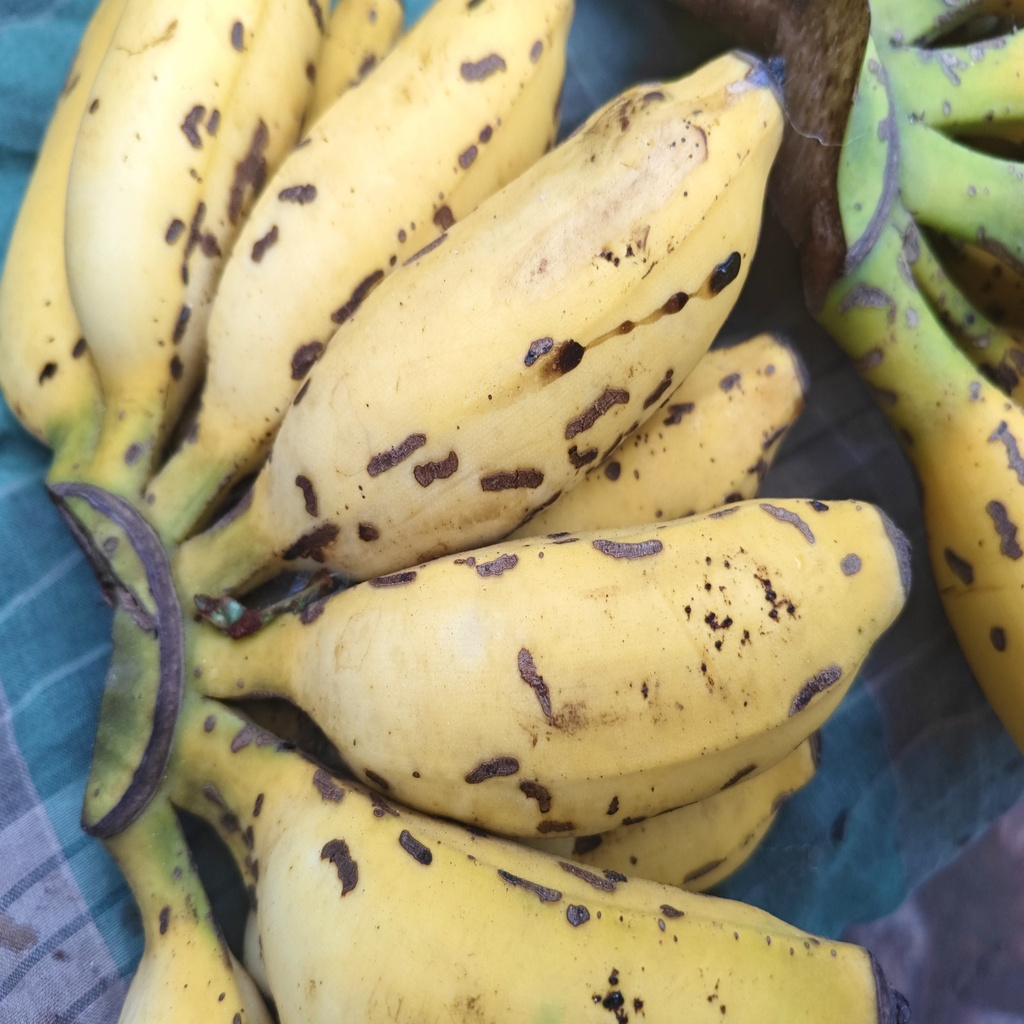unhealthy: (270, 48, 790, 605), (304, 501, 911, 834)
